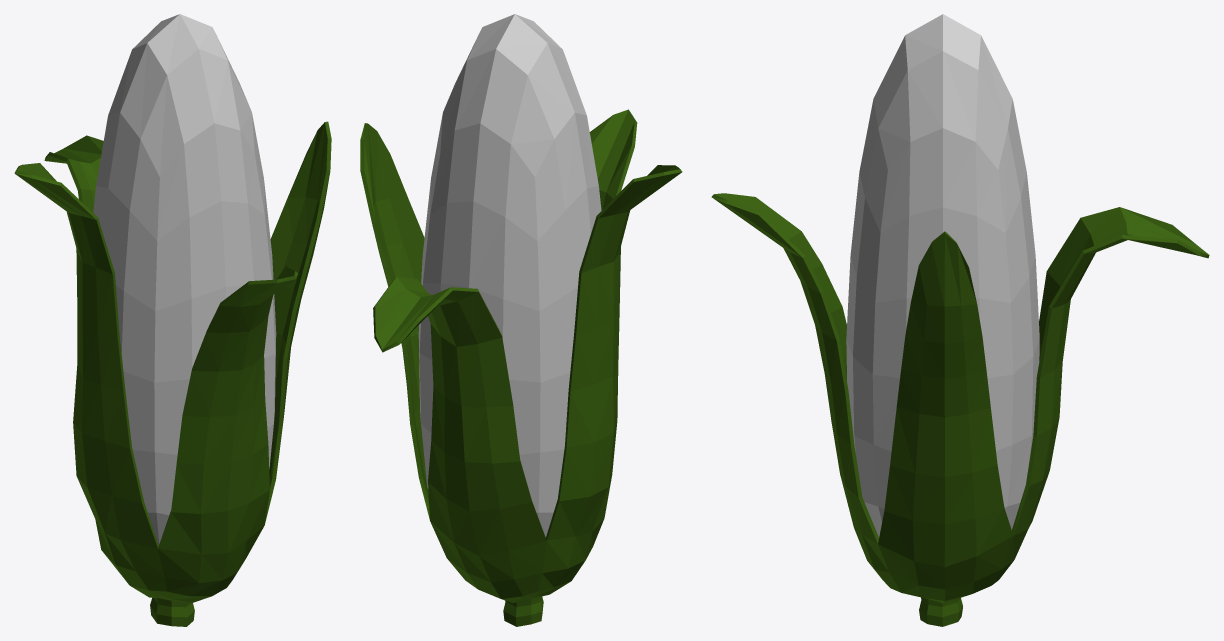
The model's file is earofcorn.obj.
3 views of the same model, side by side, from view 1: azimuth 30°, elevation 25°; view 2: azimuth 150°, elevation 25°; view 3: azimuth 270°, elevation 25° (orthographic).
Bounding box in the file's own units: 1.7 × 3.12 × 2.3.
